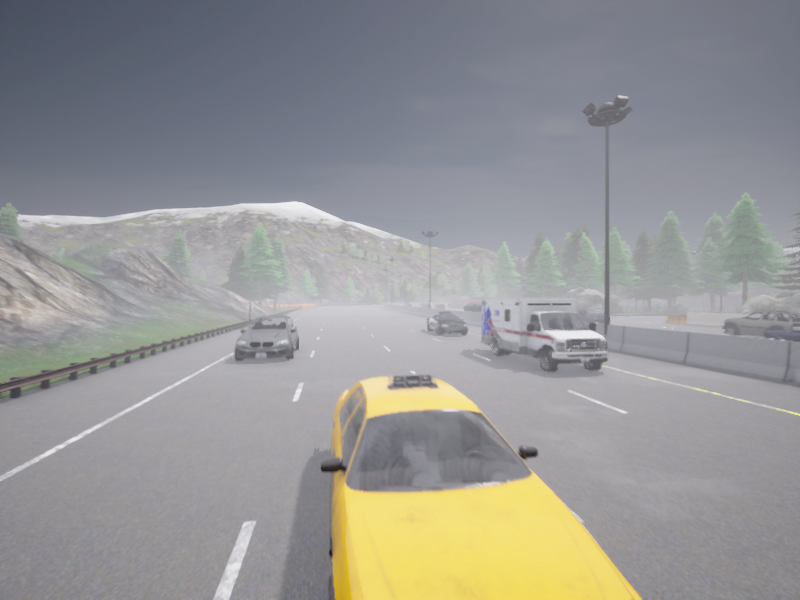vehicle: (320, 374, 641, 599), (480, 299, 607, 371), (234, 316, 299, 360), (721, 309, 799, 337), (426, 312, 467, 335), (576, 309, 604, 323), (762, 330, 799, 340), (463, 302, 480, 312), (434, 303, 444, 308), (419, 303, 428, 307), (402, 303, 410, 306), (426, 303, 428, 304)
